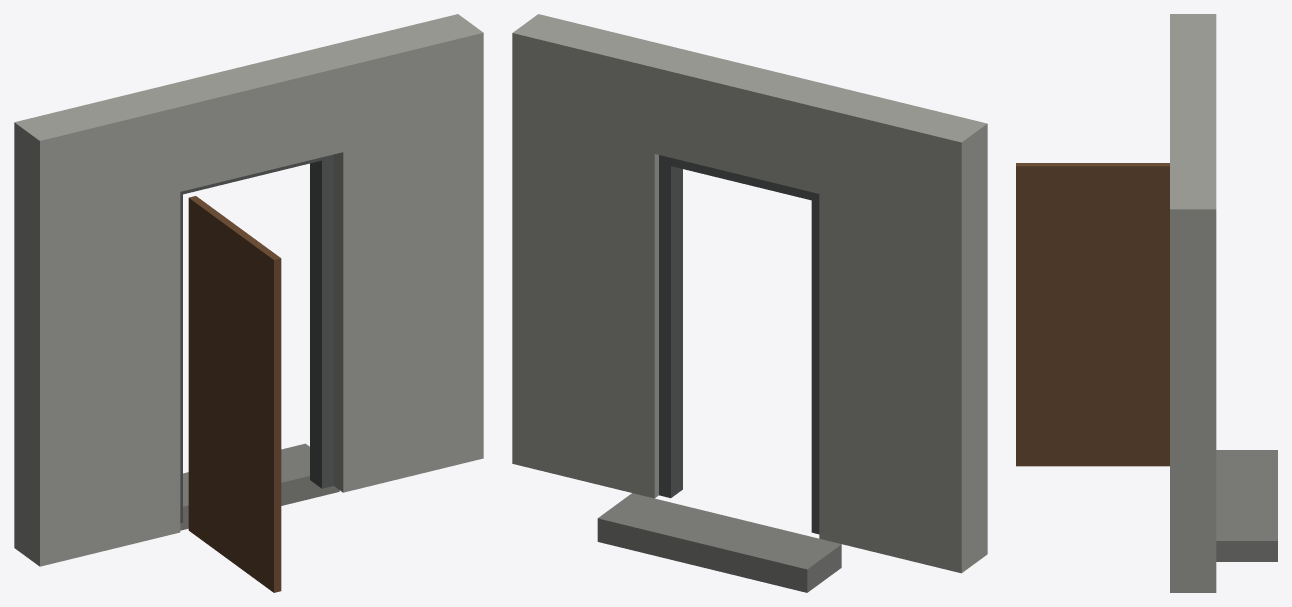
Rendered from Kit_concrete_door.fbx.
The picture shows the model from 3 angles, left to right: view 1: azimuth 30°, elevation 25°; view 2: azimuth 150°, elevation 25°; view 3: azimuth 270°, elevation 25°; orthographic projection. The views are drawn at different scales.
Visible parts, largest first — view 1: WallJambL, WallJambR, DoorLeaf, WallAbove, FrameR, Step, FrameL; view 2: WallJambL, WallJambR, WallAbove, Step, FrameR, FrameL, FrameTop; view 3: DoorLeaf, WallJambR, Step, WallAbove, WallJambL.
Part boxes in pixels (x1,y1,x2,y2): WallJambL: [14, 88, 180, 566]; WallJambR: [318, 14, 483, 492]; DoorLeaf: [188, 196, 281, 592]; WallAbove: [155, 48, 343, 191]; FrameR: [310, 154, 333, 488]; Step: [180, 443, 339, 530]; FrameL: [180, 191, 182, 523]; WallJambL: [819, 89, 987, 573]; WallJambR: [512, 14, 679, 498]; WallAbove: [654, 48, 844, 193]; Step: [597, 493, 841, 592]; FrameR: [659, 155, 682, 498]; FrameL: [811, 192, 819, 534]; FrameTop: [662, 157, 816, 200]; DoorLeaf: [1016, 163, 1169, 466]; WallJambR: [1170, 147, 1216, 592]; Step: [1216, 450, 1277, 561]; WallAbove: [1170, 75, 1216, 147]; WallJambL: [1170, 14, 1216, 75].
Size of the model in its own units: 300 by 170 by 290.
